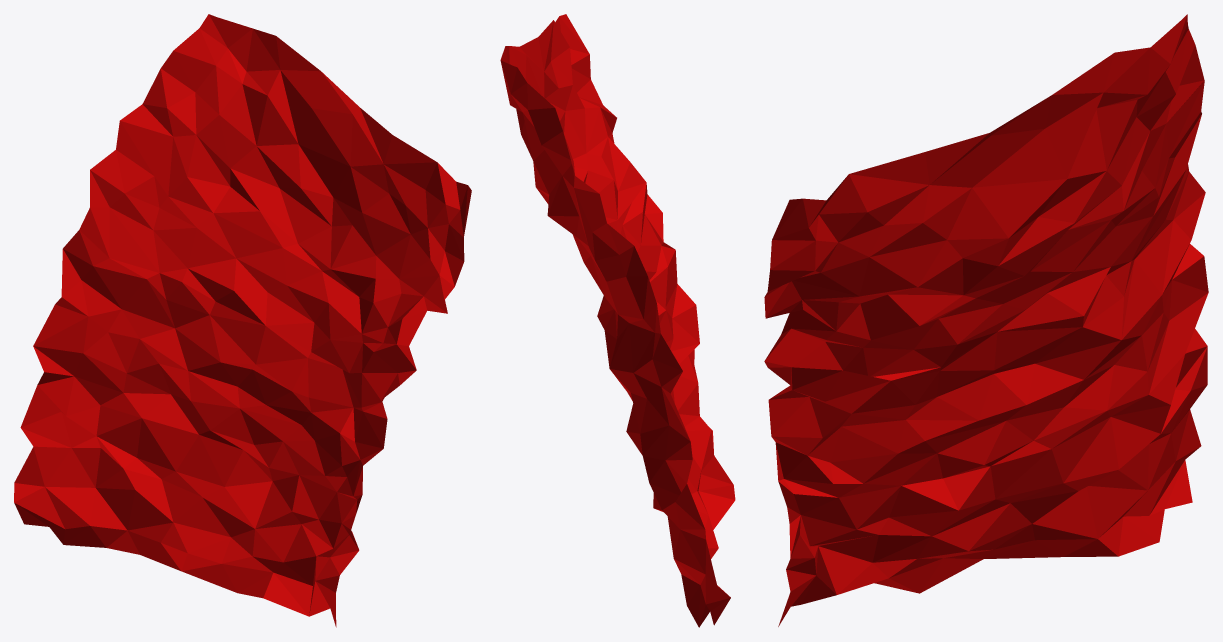
The model's file is Backdropp02.fbx.
3 views of the same model, side by side, from view 1: azimuth 30°, elevation 25°; view 2: azimuth 150°, elevation 25°; view 3: azimuth 270°, elevation 25° (orthographic). The views are drawn at different scales.
Parts seen in each view (by area): view 1: Backdropp02; view 2: Backdropp02; view 3: Backdropp02.
Boxes of the visible parts, x1,y1,x2,y2 form: Backdropp02: [14, 14, 471, 627]; Backdropp02: [500, 14, 735, 627]; Backdropp02: [764, 14, 1208, 626].
Bounding box in the file's own units: 33316 × 51032 × 32441.
